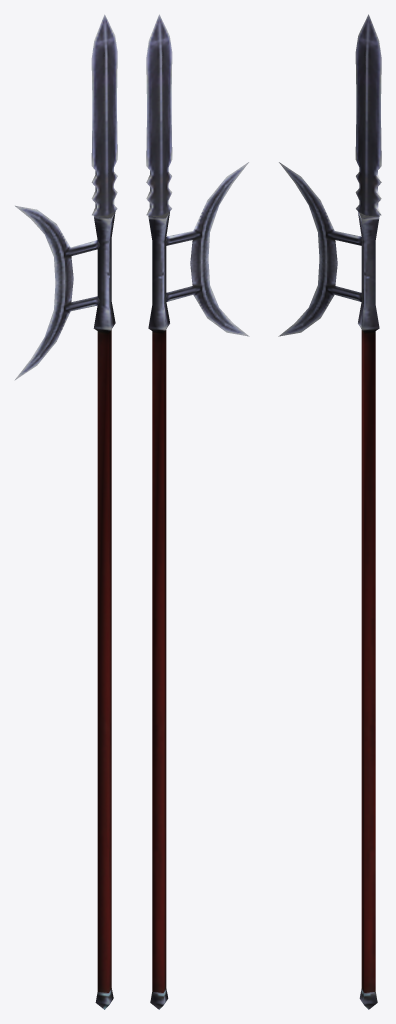
Rendered from Polearm16.FBX.
3 views of the same model, side by side, from view 1: azimuth 30°, elevation 25°; view 2: azimuth 210°, elevation 25°; view 3: azimuth 330°, elevation 25° (orthographic).
Visible parts, largest first — view 1: Polearm16; view 2: Polearm16; view 3: Polearm16.
Boxes of the visible parts, x1=… form: Polearm16: x1=14, y1=14, x2=117, y2=1009; Polearm16: x1=146, y1=14, x2=249, y2=1009; Polearm16: x1=278, y1=14, x2=381, y2=1009.
Bounding box in the file's own units: 28.31 × 260 × 5.98.
